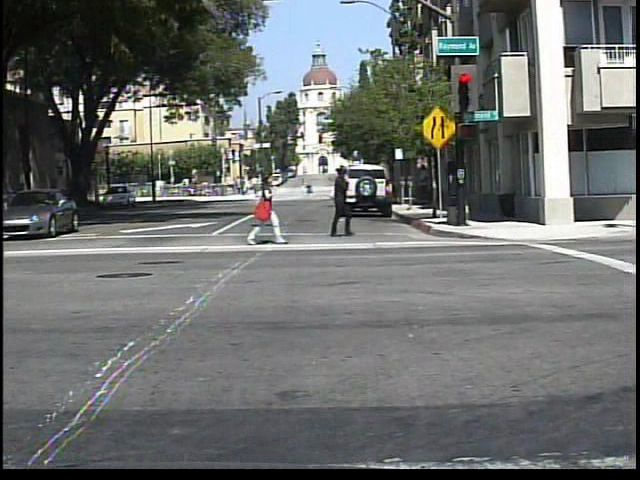person: (246, 170, 287, 245), (322, 166, 362, 240), (305, 181, 315, 198)
